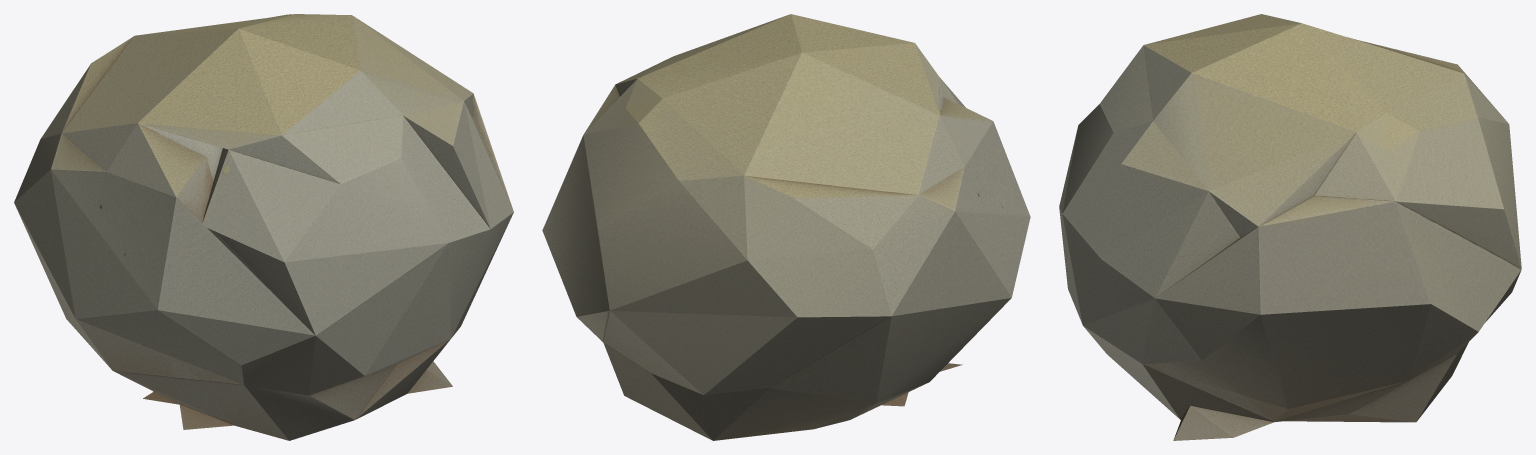
Rendered from mossy_rock_small_large.glb.
3 renders of one model, left to right at view 1: azimuth 30°, elevation 25°; view 2: azimuth 150°, elevation 25°; view 3: azimuth 270°, elevation 25°, orthographic. The views are drawn at different scales.
Size of the model in its own units: 1.89 by 1.49 by 1.81.
1 material, 1 textured.
